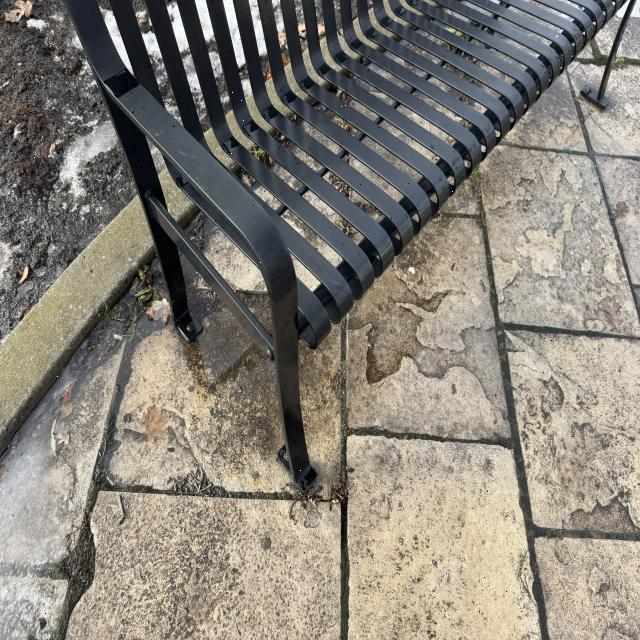Bench: (70, 3, 573, 408)
